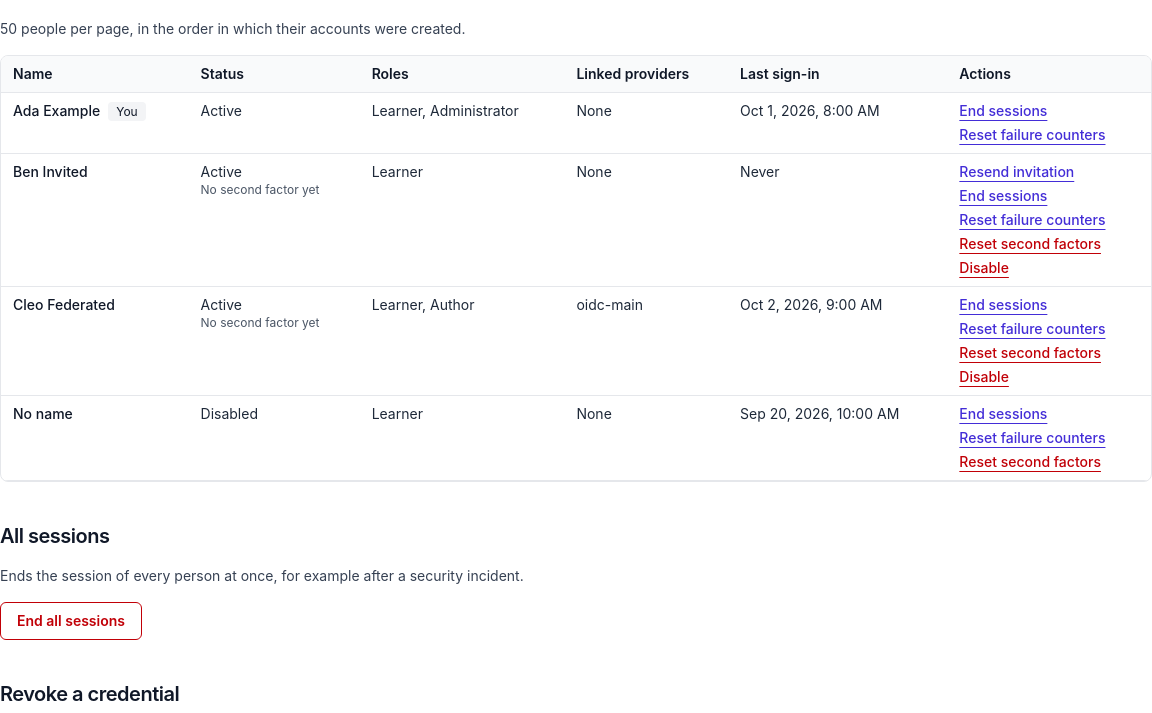
Test: the actions per user › a reset without an invitation says that the person enrolls at the next sign-in
(page scrolled)
Click the button "Reset second factors" below "Oct 2, 2026, 9:00 AM" at (1030, 353), box [959,343,1101,363]
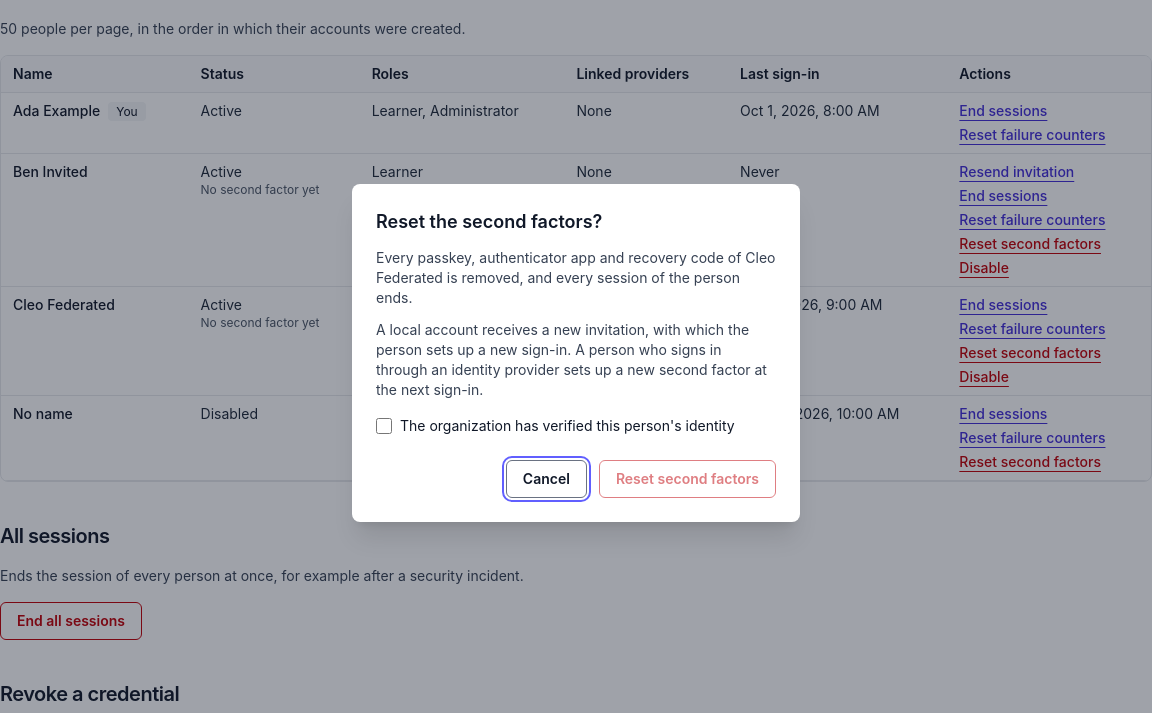
Click the checkbox at (384, 426), box [376,418,392,434]
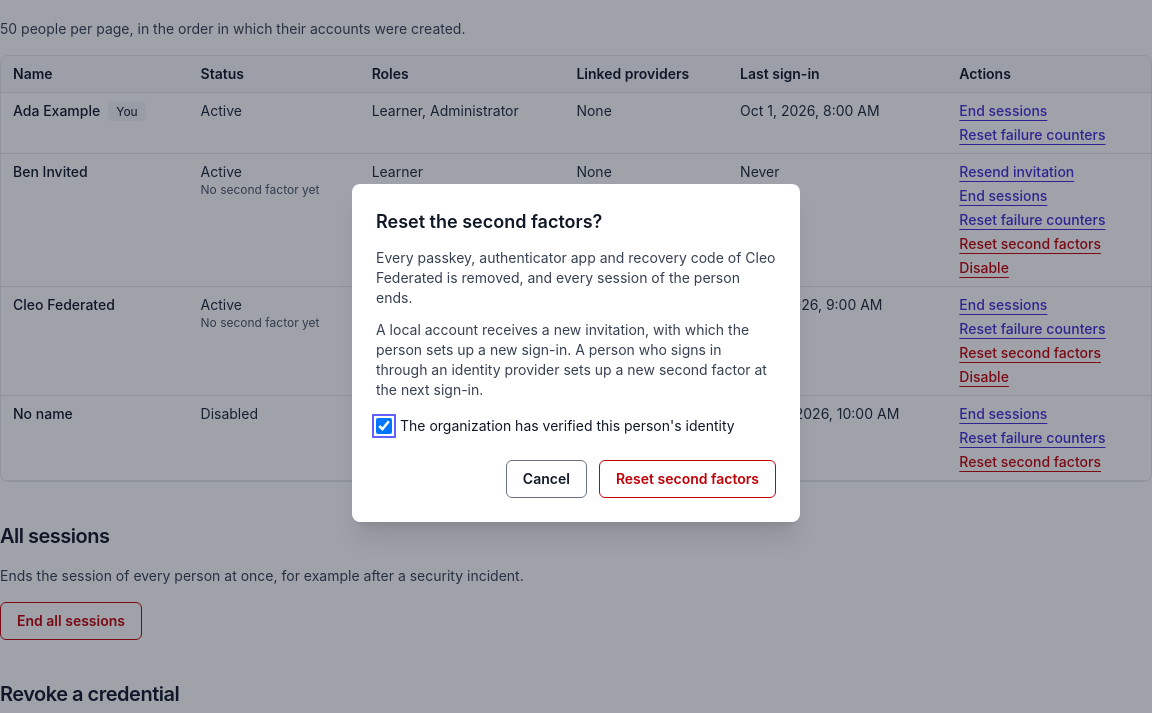
Click the button "Reset second factors" at (687, 479), box [599,460,776,498]
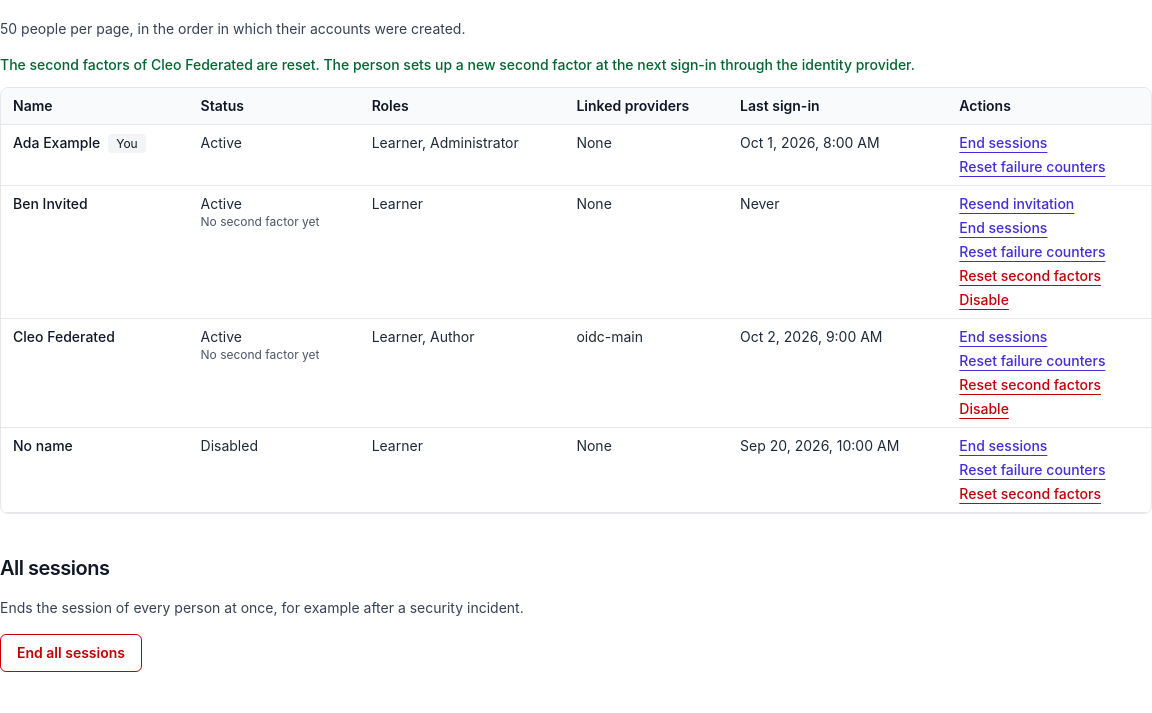
Now the text "The second factors of Cleo Federated are reset. The person sets up a new second factor at the next sign-in through the i" is shown, box [0,56,915,73]
